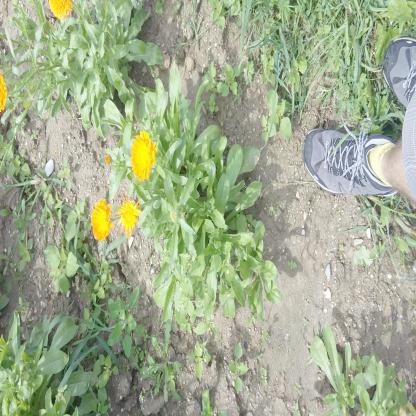marigold: (131, 130, 157, 176), (118, 197, 141, 236), (90, 202, 113, 240)
